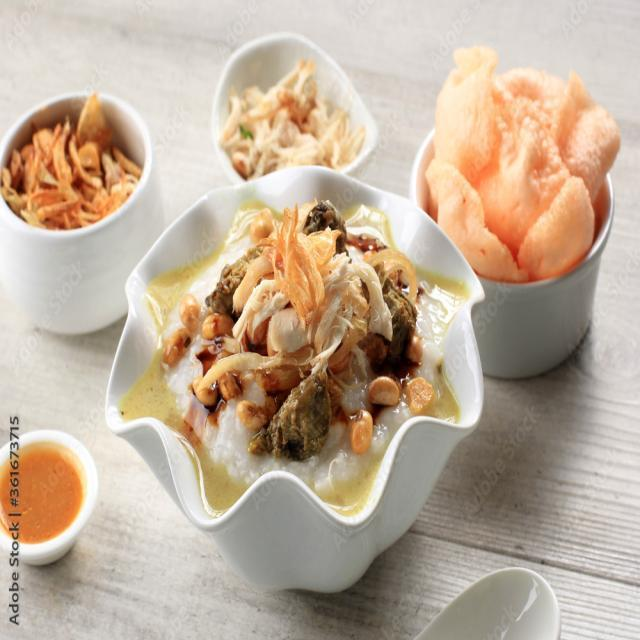bubur ayam: (118, 196, 469, 514)
mangkuk: (103, 162, 486, 595), (410, 49, 618, 382), (0, 90, 164, 336), (210, 32, 378, 186), (1, 429, 99, 569), (416, 568, 562, 638)
